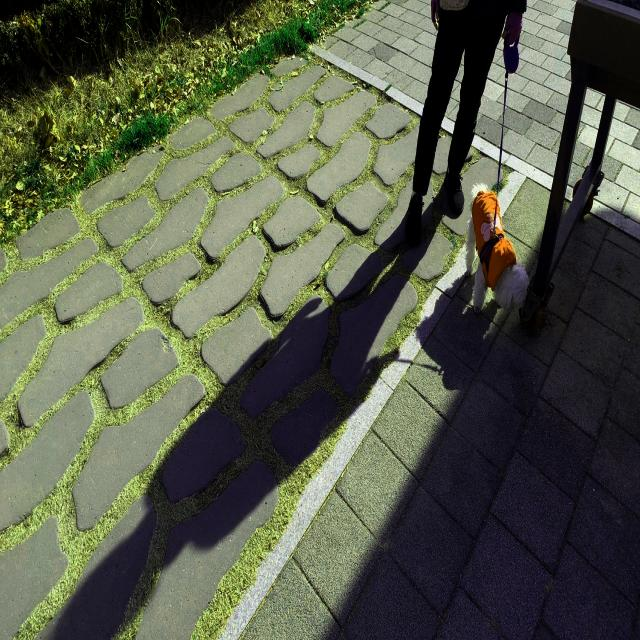Leashed_Dog: (464, 0, 529, 317)
